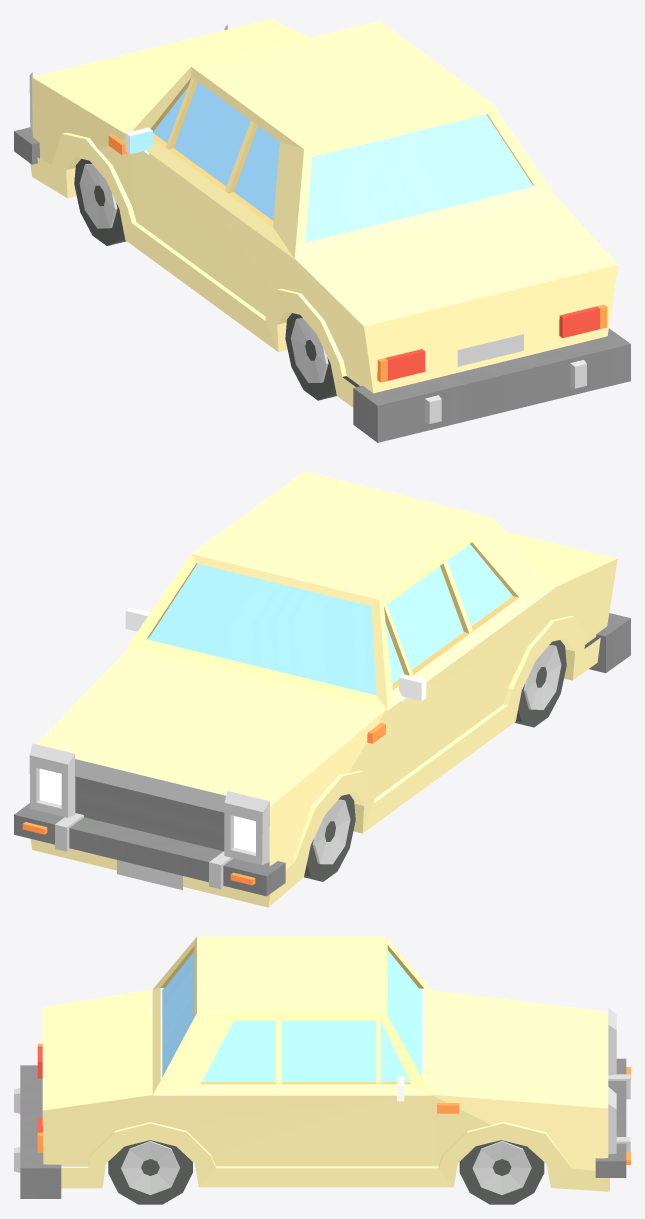
Rendered from transport_old.008.glb.
3 renders of one model, top to bottom at view 1: azimuth 30°, elevation 25°; view 2: azimuth 150°, elevation 25°; view 3: azimuth 270°, elevation 25°, orthographic. The views are drawn at different scales.
Visible parts, largest first — view 1: transport_old.008(Clone); view 2: transport_old.008(Clone); view 3: transport_old.008(Clone).
Part boxes in pixels (<box>): transport_old.008(Clone): <box>14,19,630,442</box>; transport_old.008(Clone): <box>14,471,630,907</box>; transport_old.008(Clone): <box>14,936,630,1204</box>.
Bounding box in the file's own units: 1.52 × 1.08 × 3.29.
1 material, 1 textured.
